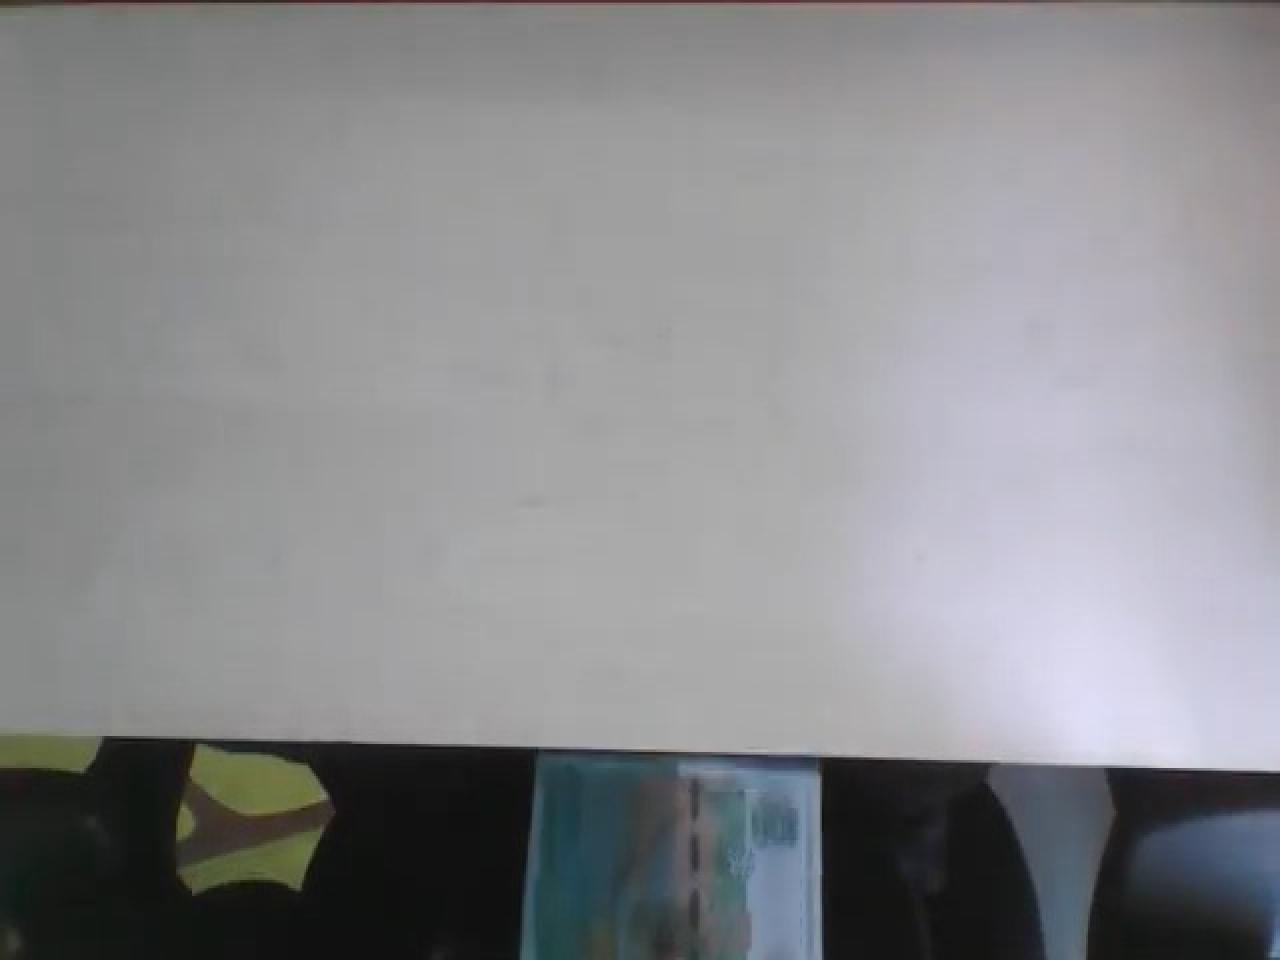100leva: (4, 5, 1278, 782), (520, 752, 826, 960)
